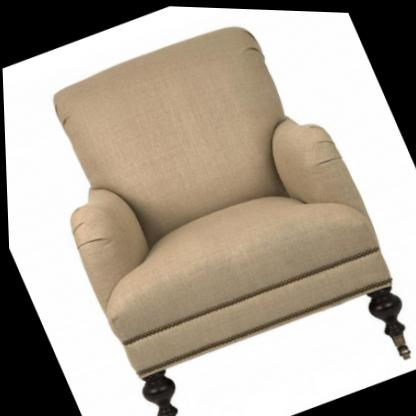Sofa: (8, 0, 416, 416)
